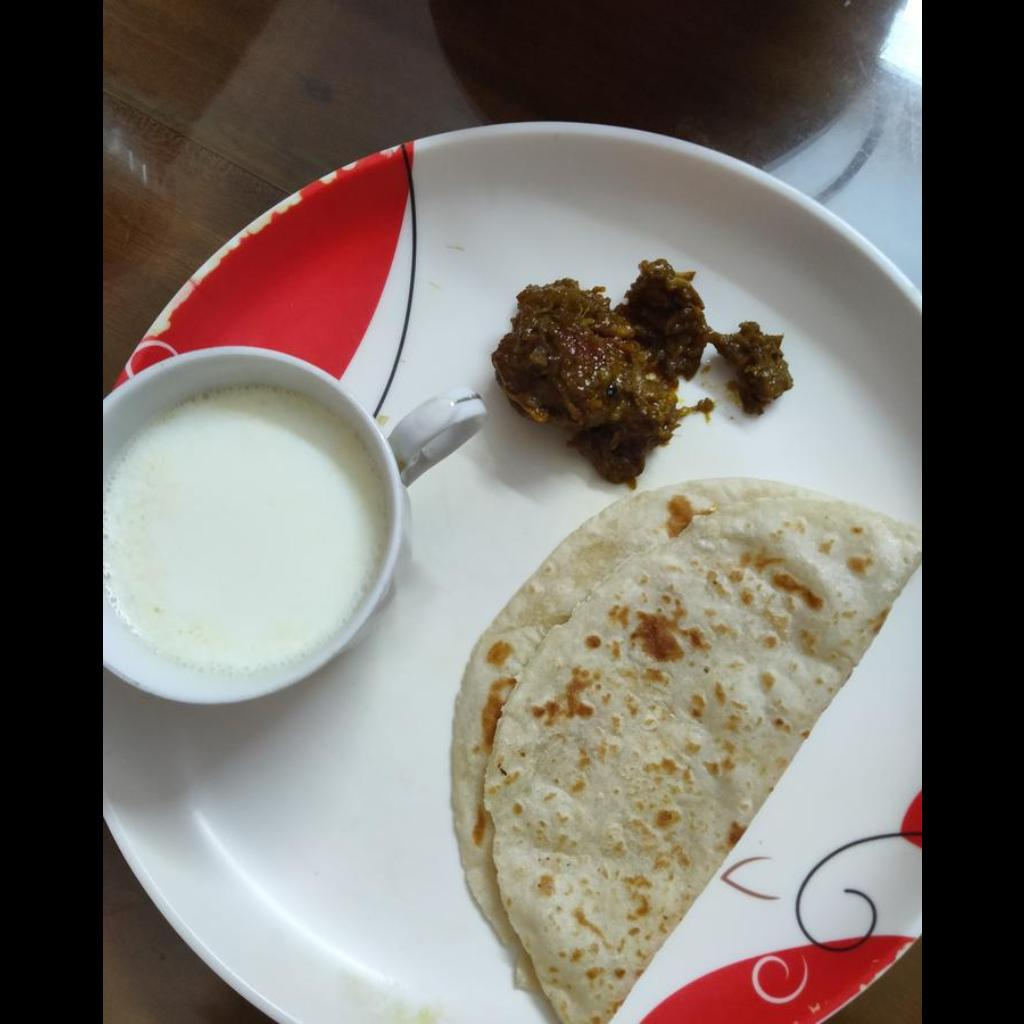milk: (102, 389, 388, 670)
ruti: (451, 481, 920, 1020)
vorta: (493, 260, 792, 489)
